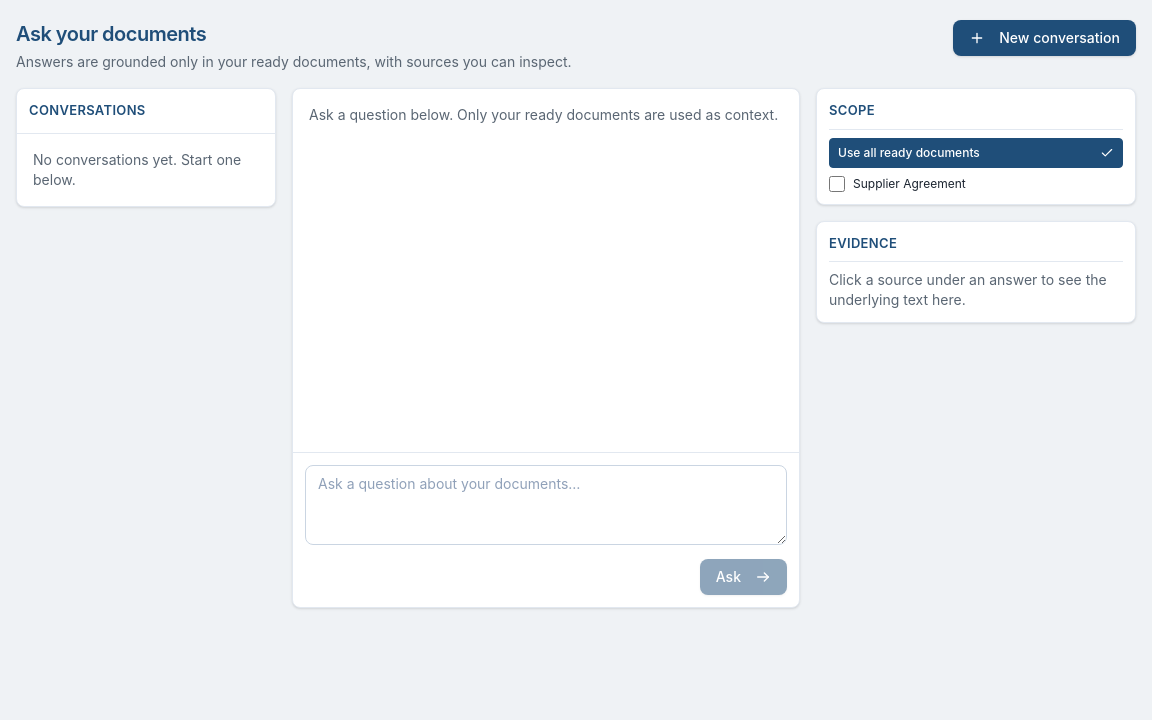
Chat screen -- streaming ask (US-020-2) › AC-048/AC-070: a 502 before any token arrives shows the generation-failed banner, not an empty assistant bubble
expect the text "Supplier Agreement" is shown: met, box [853,176,966,190]
Type "Will this fail?" into the text box labelled "Ask a question" at coordinates (546, 505), box [305,465,787,545]
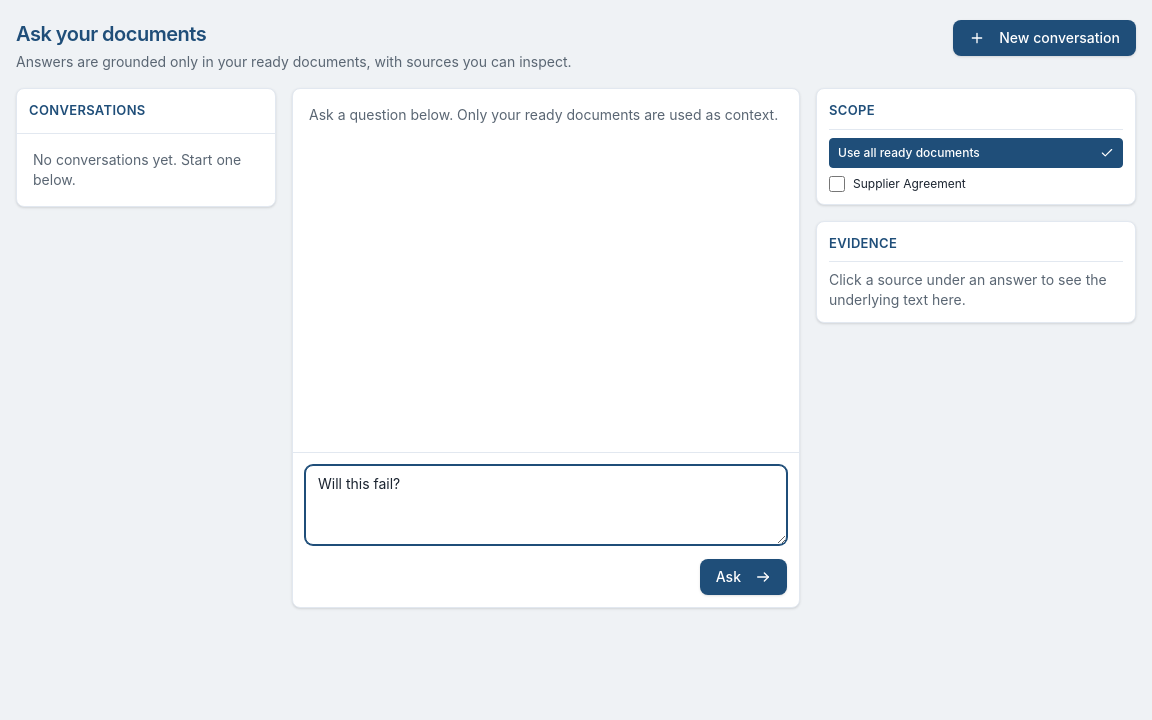
Click the button "Ask" at coordinates (743, 577), box [700,559,787,595]
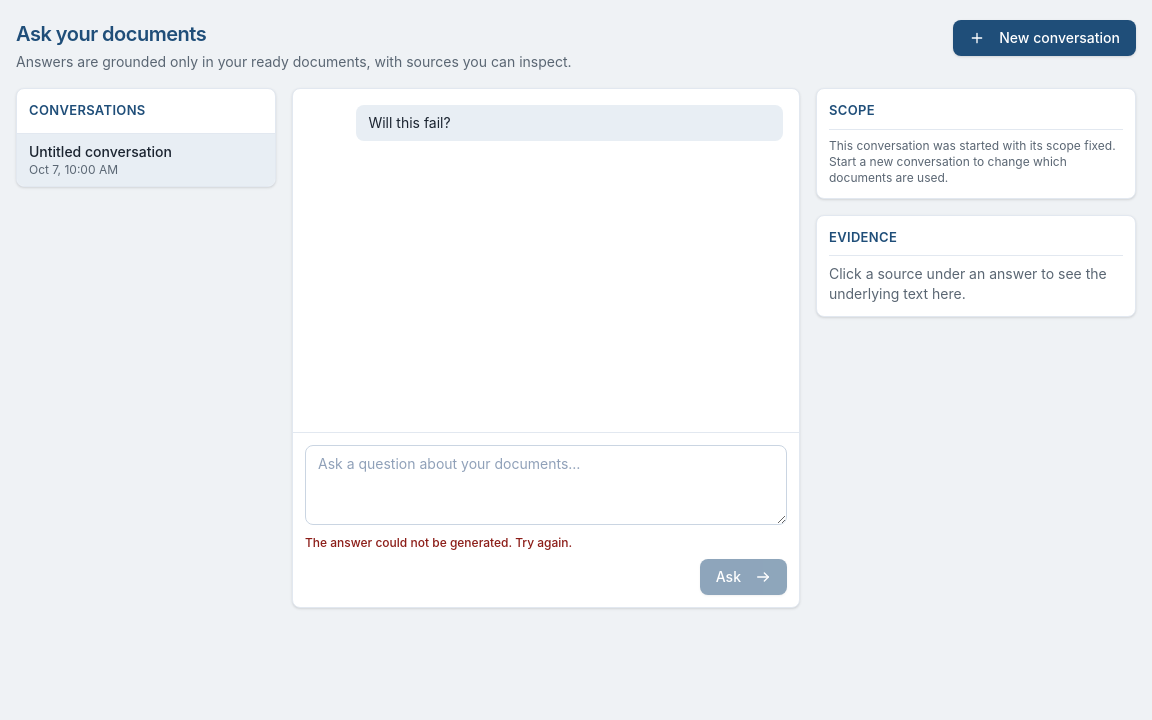
expect the message shows "could not be generated": met, box [305,535,572,550]
